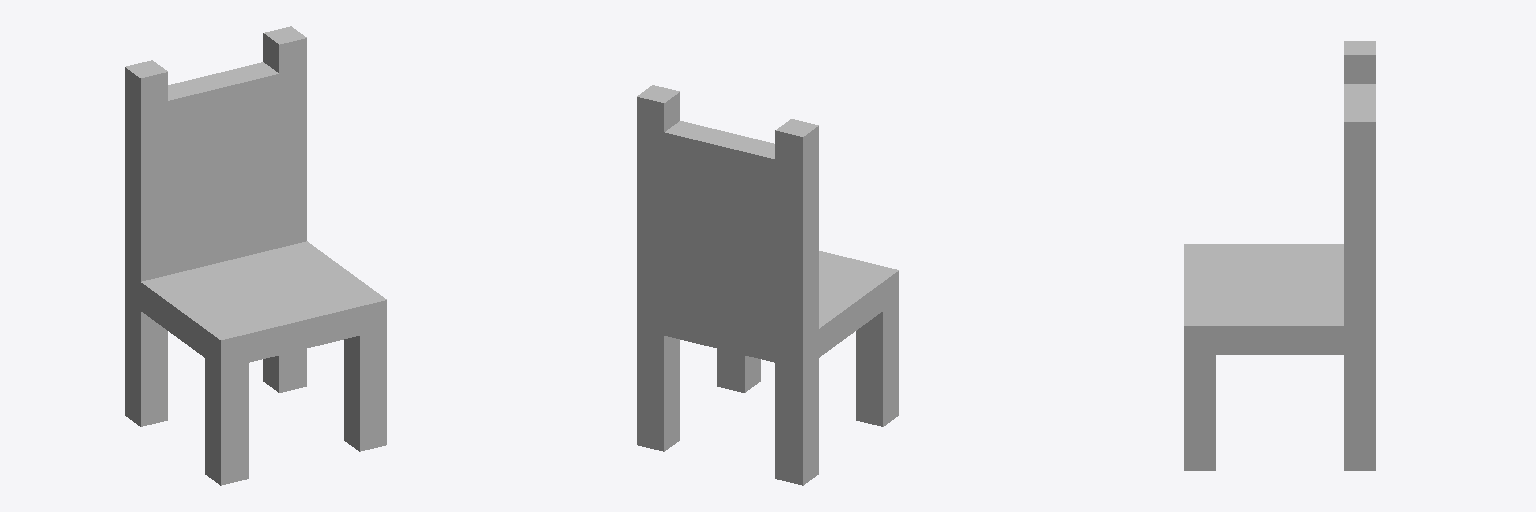
The model's file is escenario (1)-1.obj.
3 views of the same model, side by side, from view 1: azimuth 30°, elevation 25°; view 2: azimuth 150°, elevation 25°; view 3: azimuth 270°, elevation 25° (orthographic).
Parts seen in each view (by area): view 1: object 1; view 2: object 1; view 3: object 1.
Boxes of the visible parts, x1,y1,x2,y2 form: object 1: [125, 26, 386, 485]; object 1: [637, 85, 898, 485]; object 1: [1184, 41, 1375, 470].
Bounding box in the file's own units: 0.6 × 1.2 × 0.6.